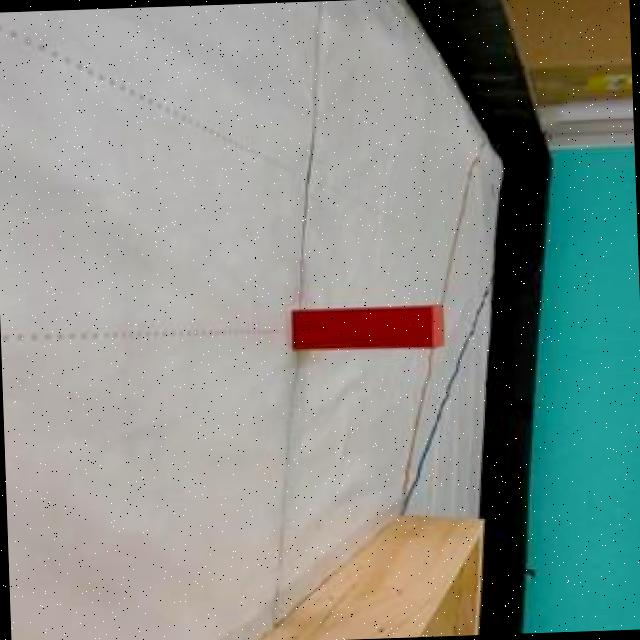redbox: (290, 300, 448, 352)
